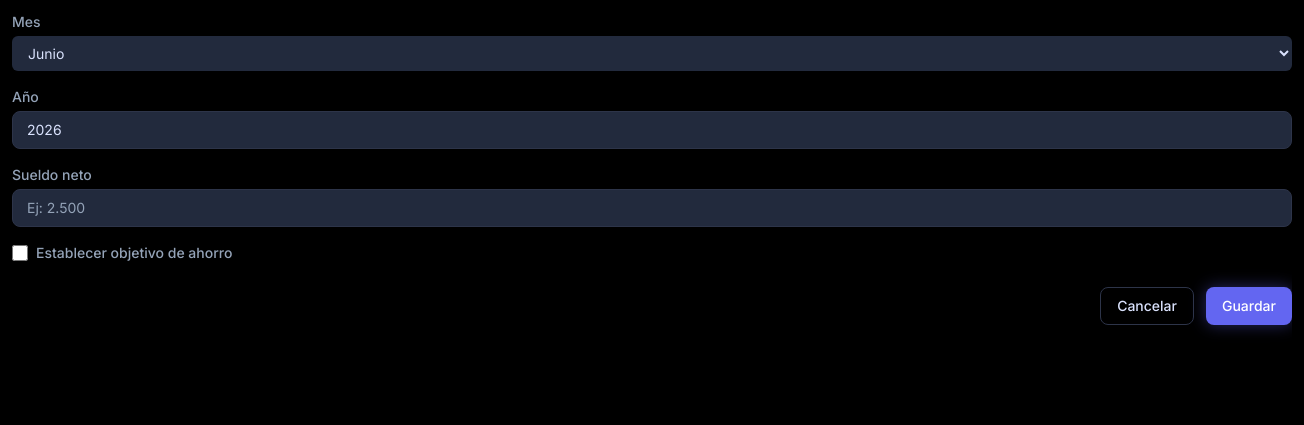
Test case: PeriodForm — savings goal › shows savings goal input when checkbox is checked
Step 1. Click the checkbox labelled "Establecer objetivo de ahorro" → coordinates (20, 253), box [12, 245, 28, 261]
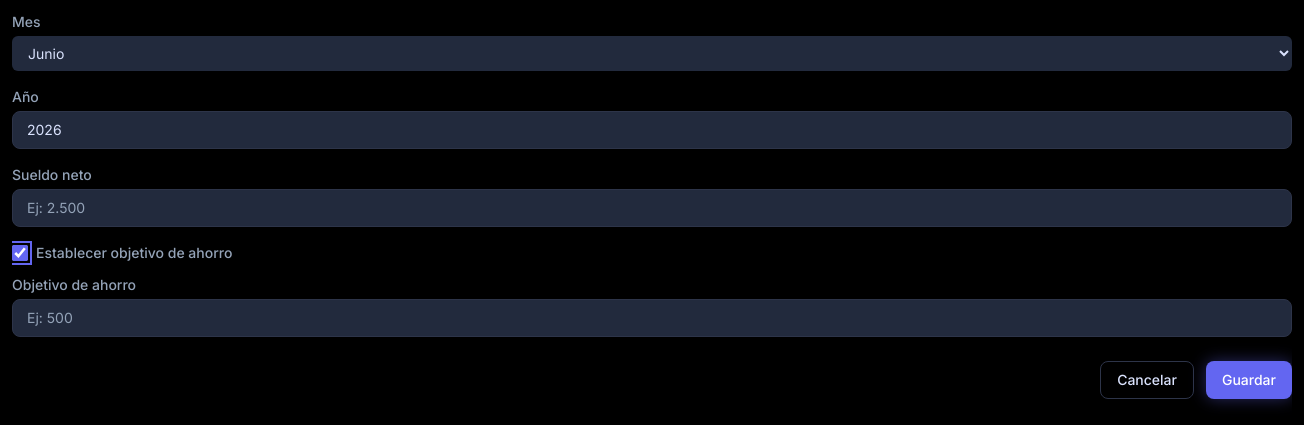
Expected: the number field labelled "Objetivo de ahorro" is shown, [12, 299, 1292, 337]
